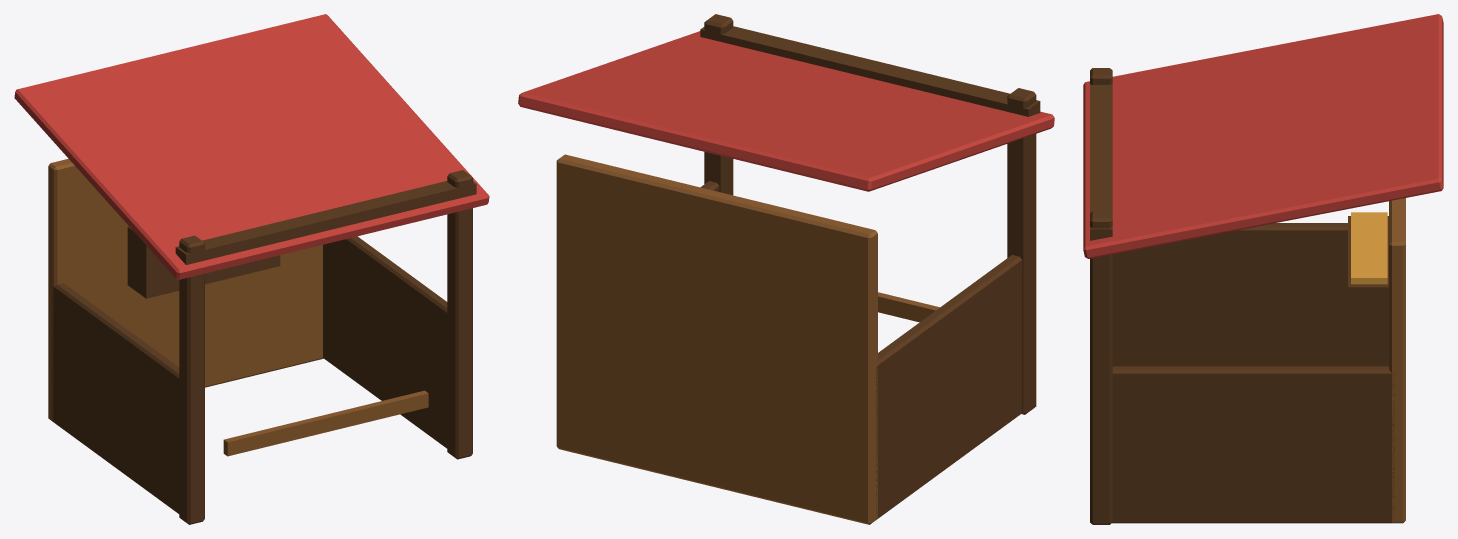
The model's file is PR_Building_AhirBolme.fbx.
3 views of the same model, side by side, from view 1: azimuth 30°, elevation 25°; view 2: azimuth 150°, elevation 25°; view 3: azimuth 270°, elevation 25° (orthographic). The views are drawn at different scales.
Visible parts, largest first — view 1: PR_Building_AhirBolme; view 2: PR_Building_AhirBolme; view 3: PR_Building_AhirBolme.
Part boxes in pixels (<box>): PR_Building_AhirBolme: <box>14,14,489,524</box>; PR_Building_AhirBolme: <box>518,14,1054,524</box>; PR_Building_AhirBolme: <box>1083,14,1443,524</box>.
Size of the model in its own units: 2.8 by 2.77 by 2.56.
1 material, 1 textured.
